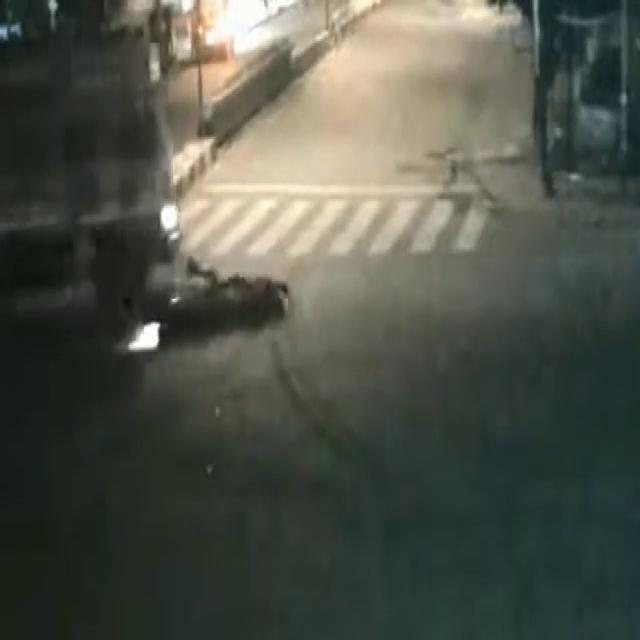accident: (0, 131, 304, 375)
